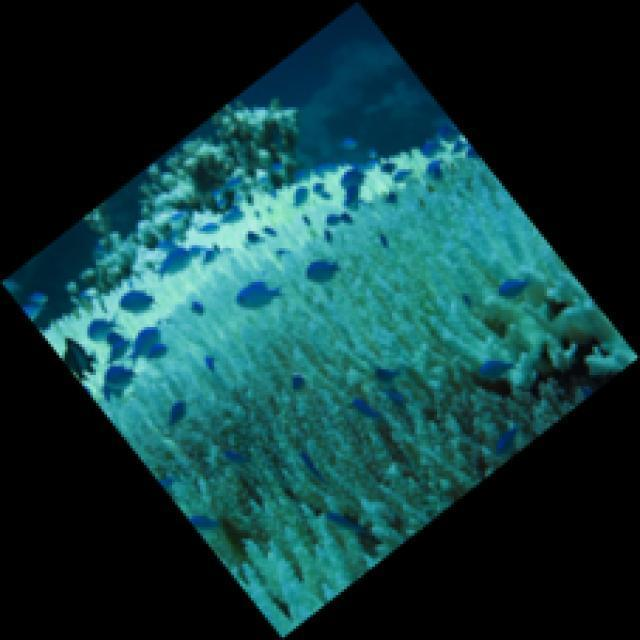Bleached: (40, 131, 640, 640), (153, 361, 590, 527), (227, 500, 402, 640), (477, 273, 640, 388)
